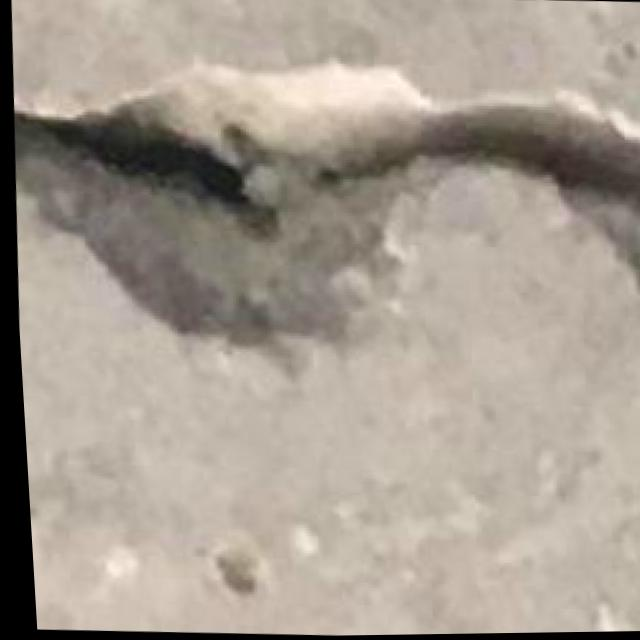Crack: (3, 44, 640, 378)
